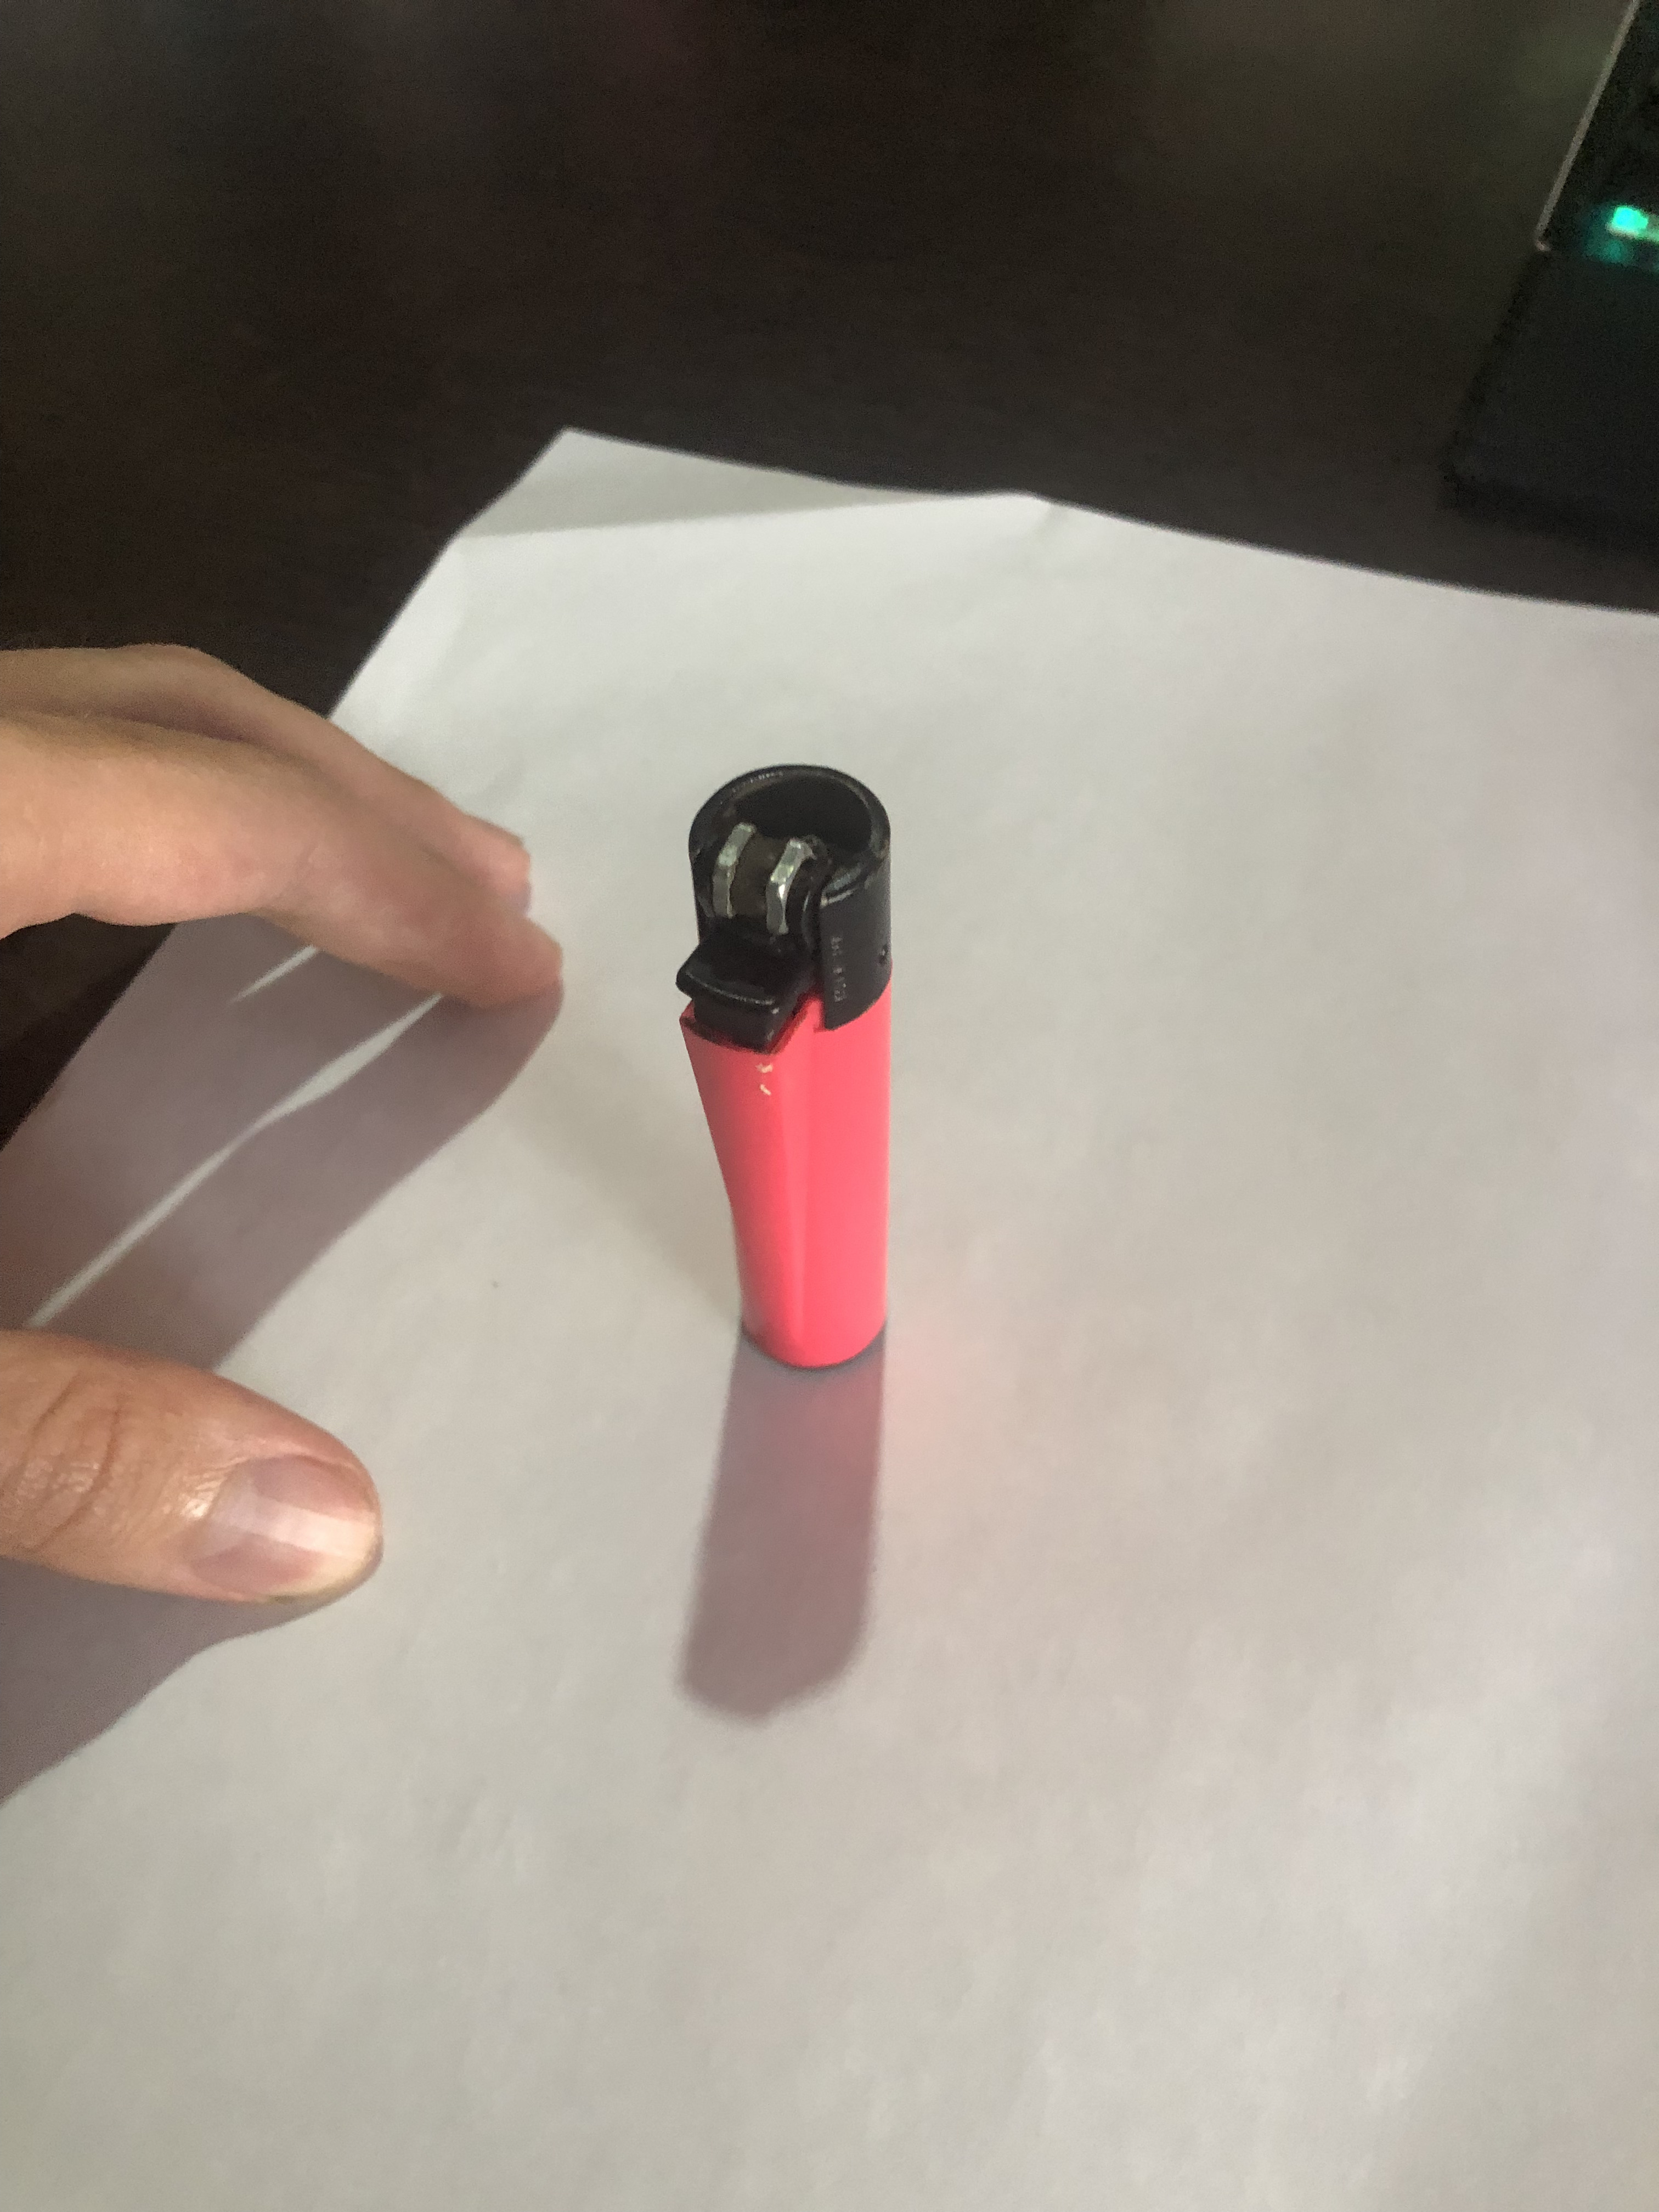Mechero: (643, 742, 924, 1364)
